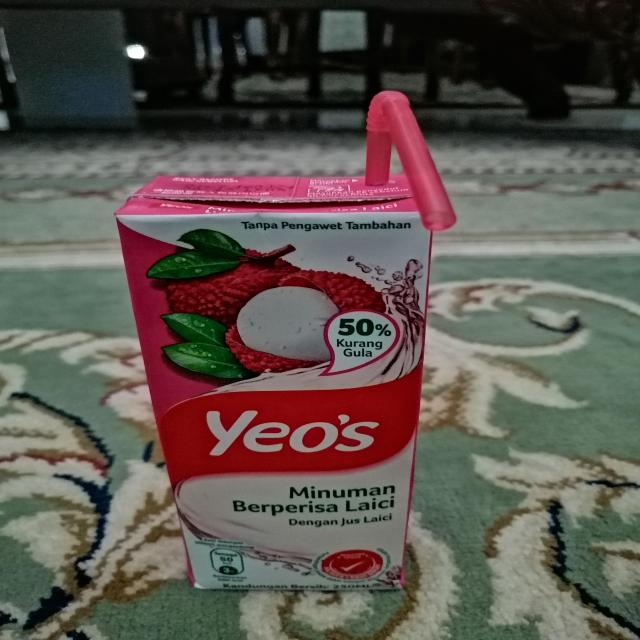drink carton: (116, 173, 430, 600)
